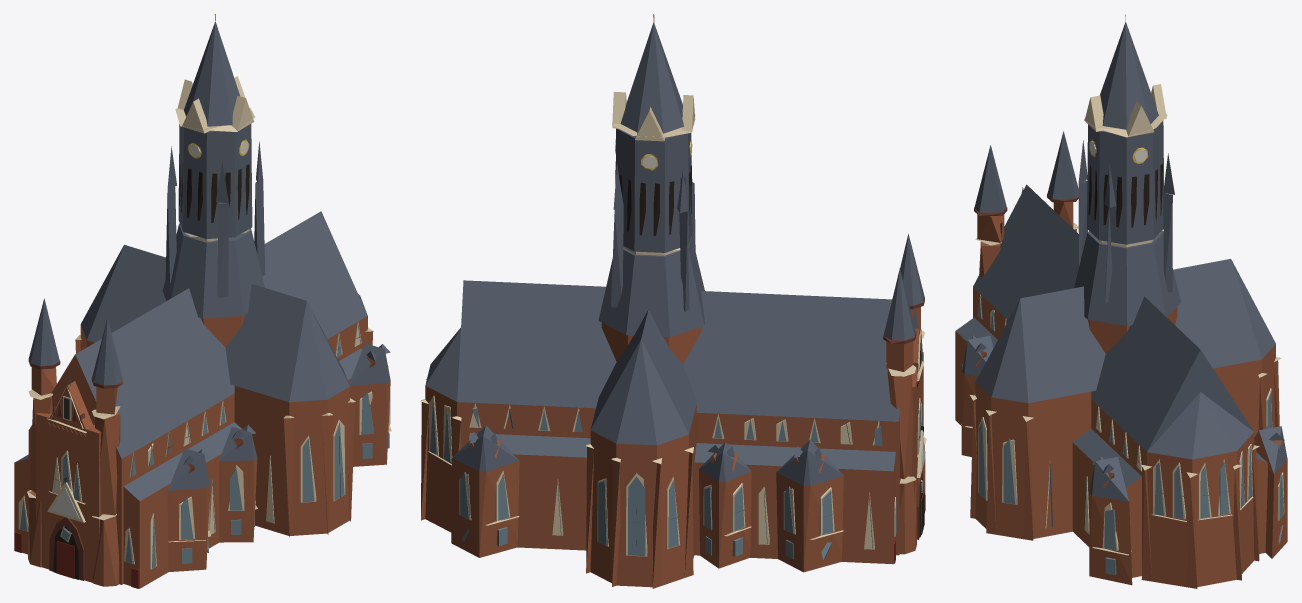
The model's file is vondelkerk.lod1.glb.
3 renders of one model, left to right at view 1: azimuth 30°, elevation 25°; view 2: azimuth 150°, elevation 25°; view 3: azimuth 270°, elevation 25°, orthographic. The views are drawn at different scales.
Parts seen in each view (by area): view 1: vondelkerk; view 2: vondelkerk; view 3: vondelkerk.
Part boxes in pixels (x1=…): vondelkerk: x1=14, y1=14, x2=391, y2=588; vondelkerk: x1=420, y1=14, x2=926, y2=588; vondelkerk: x1=955, y1=14, x2=1287, y2=588.
Size of the model in its own units: 42.5 by 48.3 by 29.95.
